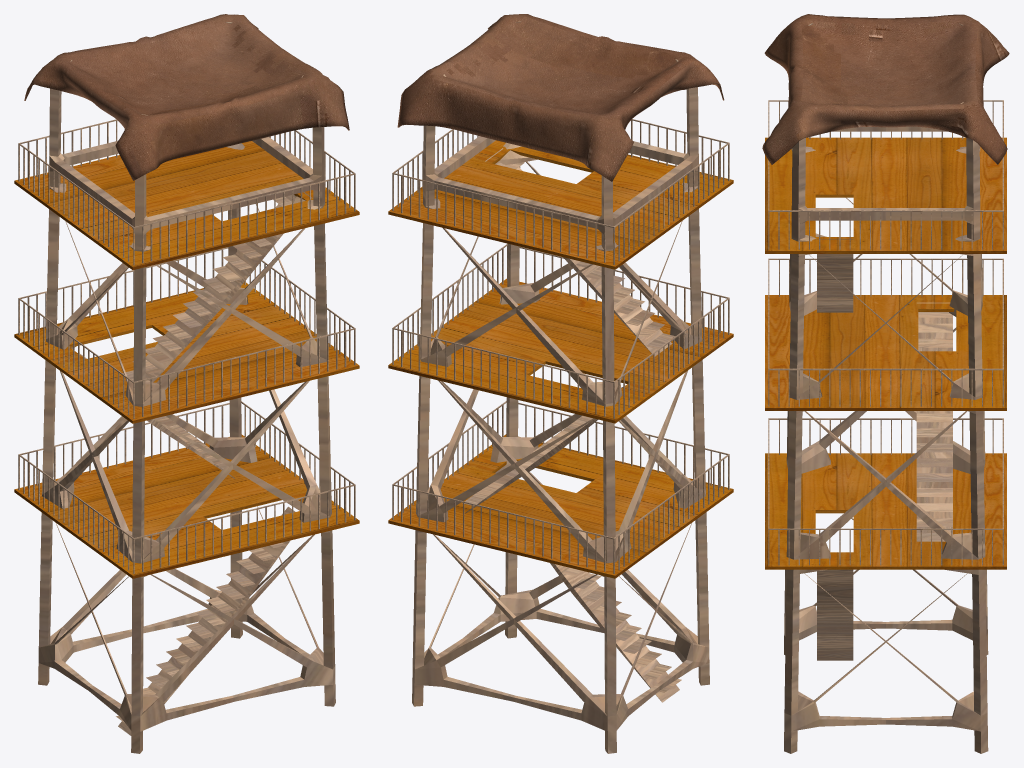
The model's file is watchtower-refined.glb.
The picture shows the model from 3 angles, left to right: view 1: azimuth 30°, elevation 25°; view 2: azimuth 150°, elevation 25°; view 3: azimuth 270°, elevation 25°; orthographic projection. The views are drawn at different scales.
Parts seen in each view (by area): view 1: Tower, RoofCloth, floor, floor.002, floor.001, Stairs, railling.001, railling, railling.002; view 2: Tower, RoofCloth, floor.001, floor, floor.002, Stairs, railling.001, railling, railling.002; view 3: Tower, RoofCloth, floor.001, floor.002, floor, Stairs, railling.001, railling, railling.002.
Boxes of the visible parts, left/top/right/bottom form: Tower: left=38, top=22, right=335, bottom=753; RoofCloth: left=24, top=14, right=349, bottom=180; floor: left=14, top=434, right=359, bottom=578; floor.002: left=14, top=141, right=359, bottom=269; floor.001: left=14, top=282, right=359, bottom=423; Stairs: left=79, top=192, right=312, bottom=735; railling.001: left=18, top=247, right=355, bottom=418; railling: left=18, top=401, right=355, bottom=573; railling.002: left=18, top=119, right=355, bottom=265; Tower: left=412, top=21, right=709, bottom=753; RoofCloth: left=397, top=14, right=724, bottom=181; floor.001: left=388, top=278, right=733, bottom=423; floor: left=388, top=434, right=733, bottom=578; floor.002: left=388, top=140, right=733, bottom=269; Stairs: left=462, top=148, right=681, bottom=702; railling.001: left=392, top=244, right=729, bottom=418; railling: left=392, top=401, right=729, bottom=573; railling.002: left=392, top=119, right=729, bottom=264; Tower: left=784, top=23, right=988, bottom=753; RoofCloth: left=762, top=14, right=1009, bottom=164; floor.001: left=765, top=295, right=1006, bottom=410; floor.002: left=765, top=137, right=1006, bottom=253; floor: left=765, top=453, right=1006, bottom=569; Stairs: left=817, top=239, right=952, bottom=660; railling.001: left=768, top=258, right=1003, bottom=406; railling: left=768, top=418, right=1003, bottom=565; railling.002: left=768, top=100, right=1003, bottom=249.
Size of the model in its own units: 14.14 by 37.16 by 12.95.
Materials: 3 (3 with a texture image).
